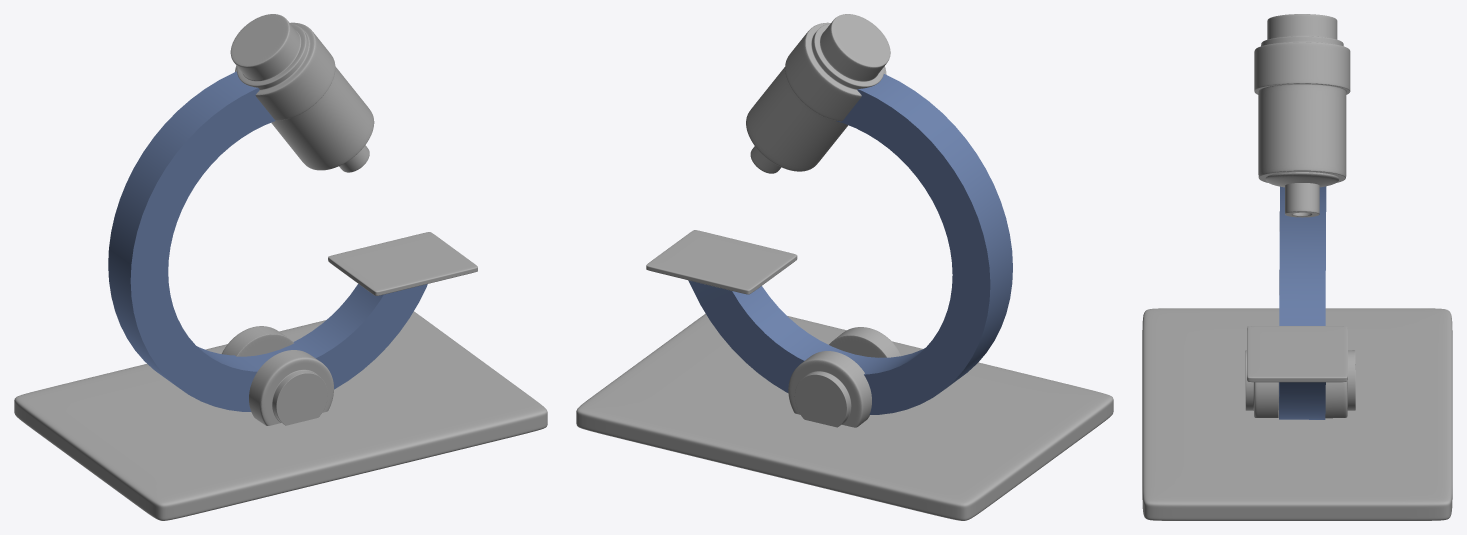
File: Microscope.fbx
3 renders of one model, left to right at view 1: azimuth 30°, elevation 25°; view 2: azimuth 150°, elevation 25°; view 3: azimuth 270°, elevation 25°, orthographic. The views are drawn at different scales.
Parts seen in each view (by area): view 1: Cube, Cylinder, Cylinder.001, Cube.001, Cylinder.003, Cylinder.002; view 2: Cube, Cylinder, Cylinder.001, Cube.001, Cylinder.002, Cylinder.003; view 3: Cube, Cylinder.001, Cylinder, Cube.001, Cylinder.002, Cylinder.003.
Part boxes in pixels (box(x1,y1,x2,y2)): Cube: box(14, 311, 547, 520); Cylinder: box(108, 71, 427, 411); Cylinder.001: box(230, 14, 374, 172); Cube.001: box(328, 232, 477, 295); Cylinder.003: box(249, 350, 333, 425); Cylinder.002: box(222, 326, 293, 356); Cube: box(576, 313, 1113, 520); Cylinder: box(688, 74, 1012, 414); Cylinder.001: box(746, 14, 890, 173); Cube.001: box(646, 230, 797, 294); Cylinder.002: box(788, 351, 871, 427); Cylinder.003: box(829, 327, 901, 357); Cube: box(1142, 308, 1452, 520); Cylinder.001: box(1254, 14, 1350, 217); Cylinder: box(1279, 186, 1326, 419); Cube.001: box(1247, 326, 1347, 382); Cylinder.002: box(1325, 350, 1355, 418); Cylinder.003: box(1245, 350, 1278, 417).
Size of the model in its own units: 771 by 755 by 513.
